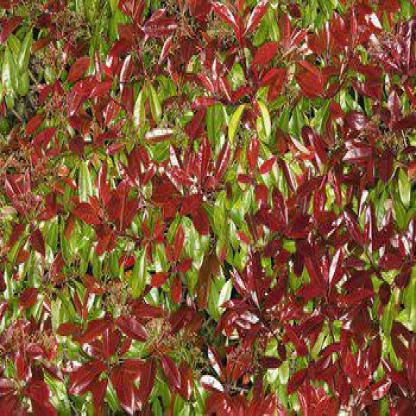other: (1, 0, 410, 411)
